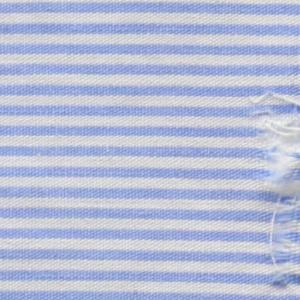Damage: (247, 84, 300, 294)
